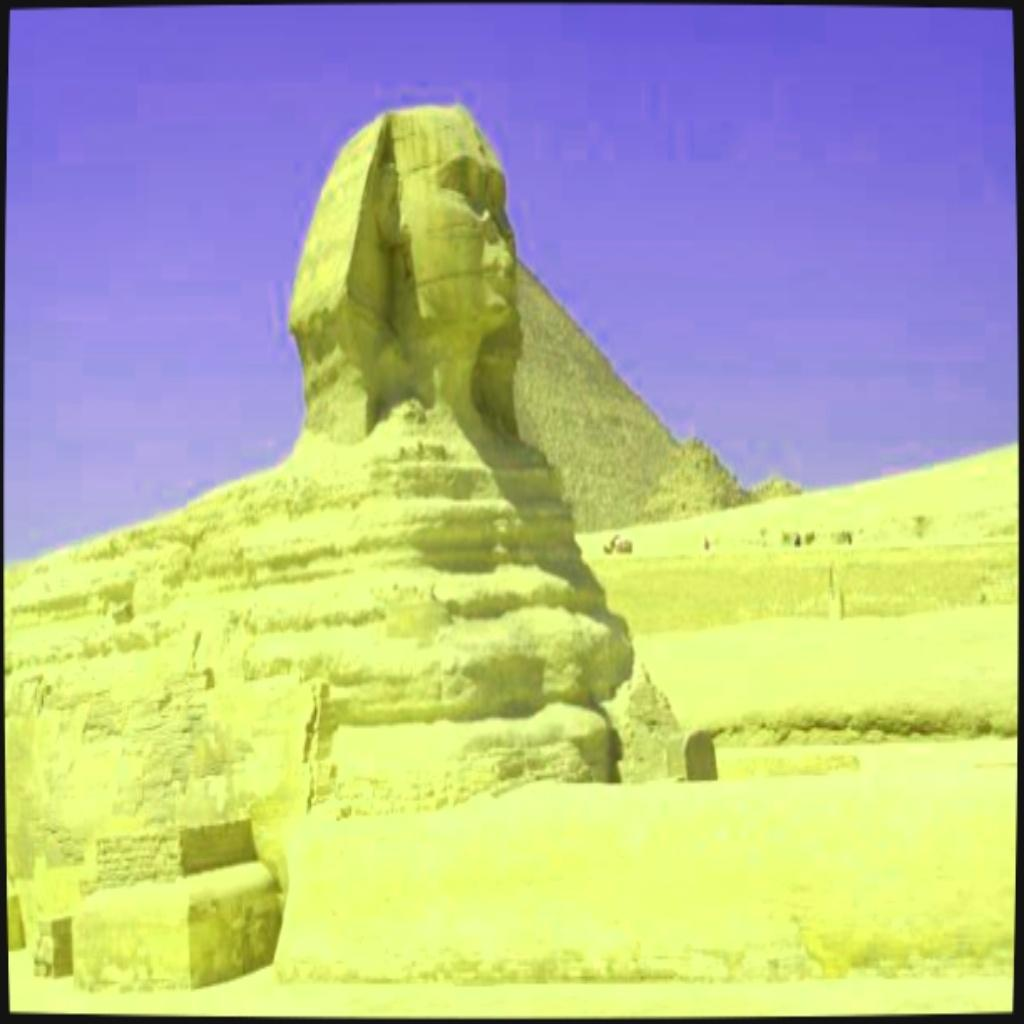Sphinx: (4, 98, 720, 986)
